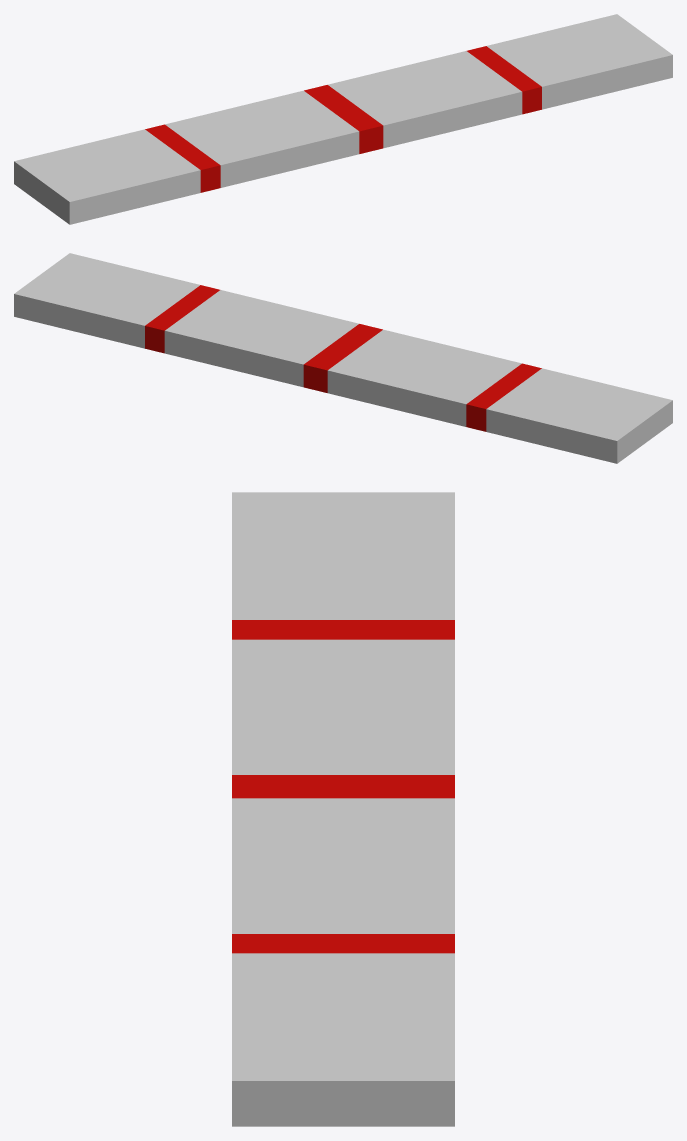
The model's file is NarrowPath.fbx.
3 views of the same model, one above another, from view 1: azimuth 30°, elevation 25°; view 2: azimuth 150°, elevation 25°; view 3: azimuth 270°, elevation 25° (orthographic). The views are drawn at different scales.
Parts seen in each view (by area): view 1: Cube; view 2: Cube; view 3: Cube.
Part boxes in pixels (<box>): Cube: <box>14,14,672,224</box>; Cube: <box>14,253,672,463</box>; Cube: <box>232,492,454,1126</box>.
Bounding box in the file's own units: 1248 × 45.1 × 200.
